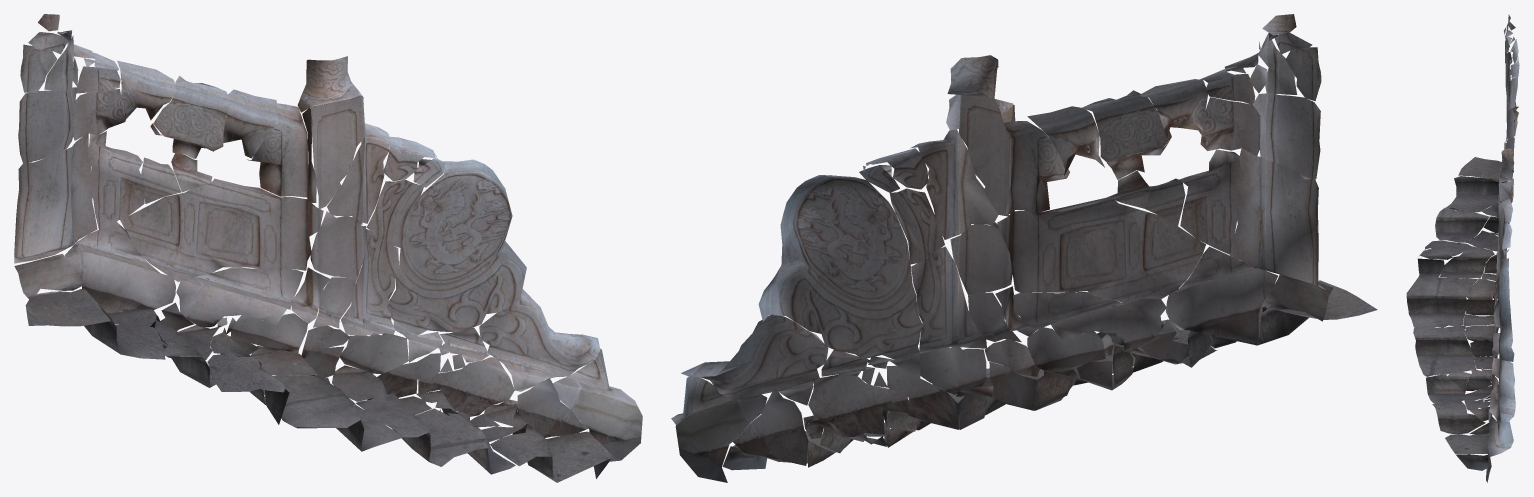
Rendered from railing.glb.
3 renders of one model, left to right at view 1: azimuth 30°, elevation 25°; view 2: azimuth 150°, elevation 25°; view 3: azimuth 270°, elevation 25°, orthographic. The views are drawn at different scales.
Visible parts, largest first — view 1: Object_2; view 2: Object_2; view 3: Object_2.
Boxes of the visible parts, left/top/right/bottom form: Object_2: left=14, top=14, right=642, bottom=482; Object_2: left=671, top=14, right=1377, bottom=482; Object_2: left=1406, top=14, right=1519, bottom=482.
Size of the model in its own units: 1.99 by 1.74 by 0.5608.
1 material, 1 textured.
